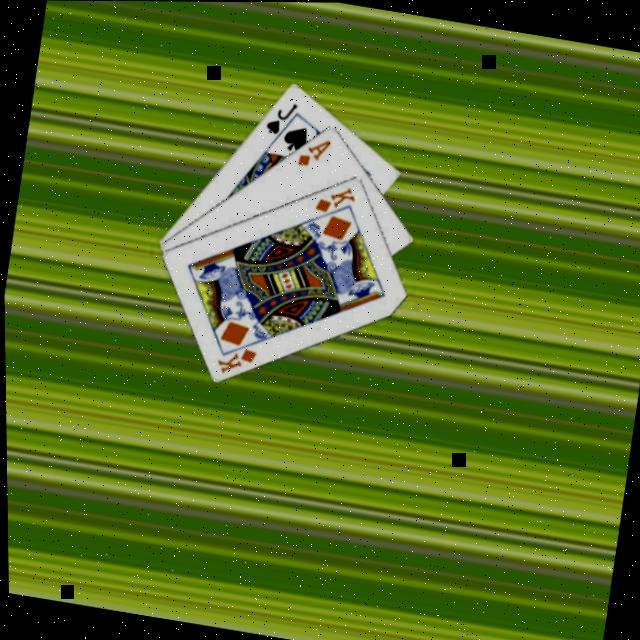AD: (294, 130, 336, 170)
JS: (263, 93, 304, 138)
KD: (312, 177, 361, 217), (212, 339, 261, 379)
